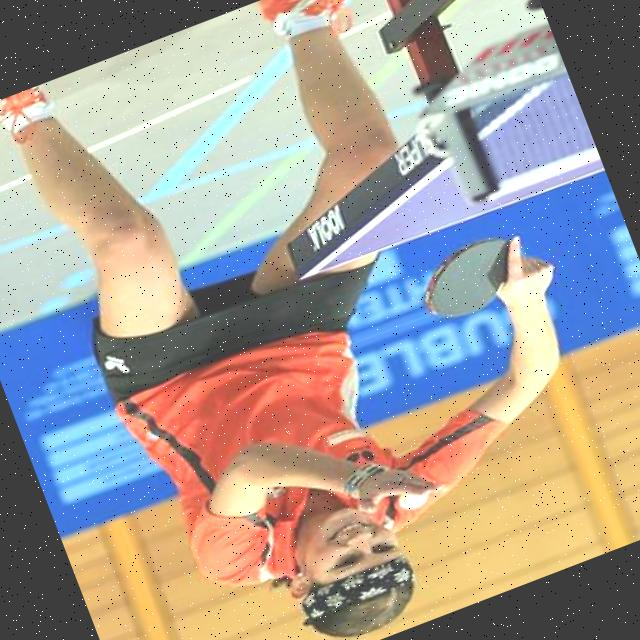ping-pong-ball: (398, 484, 430, 514)
